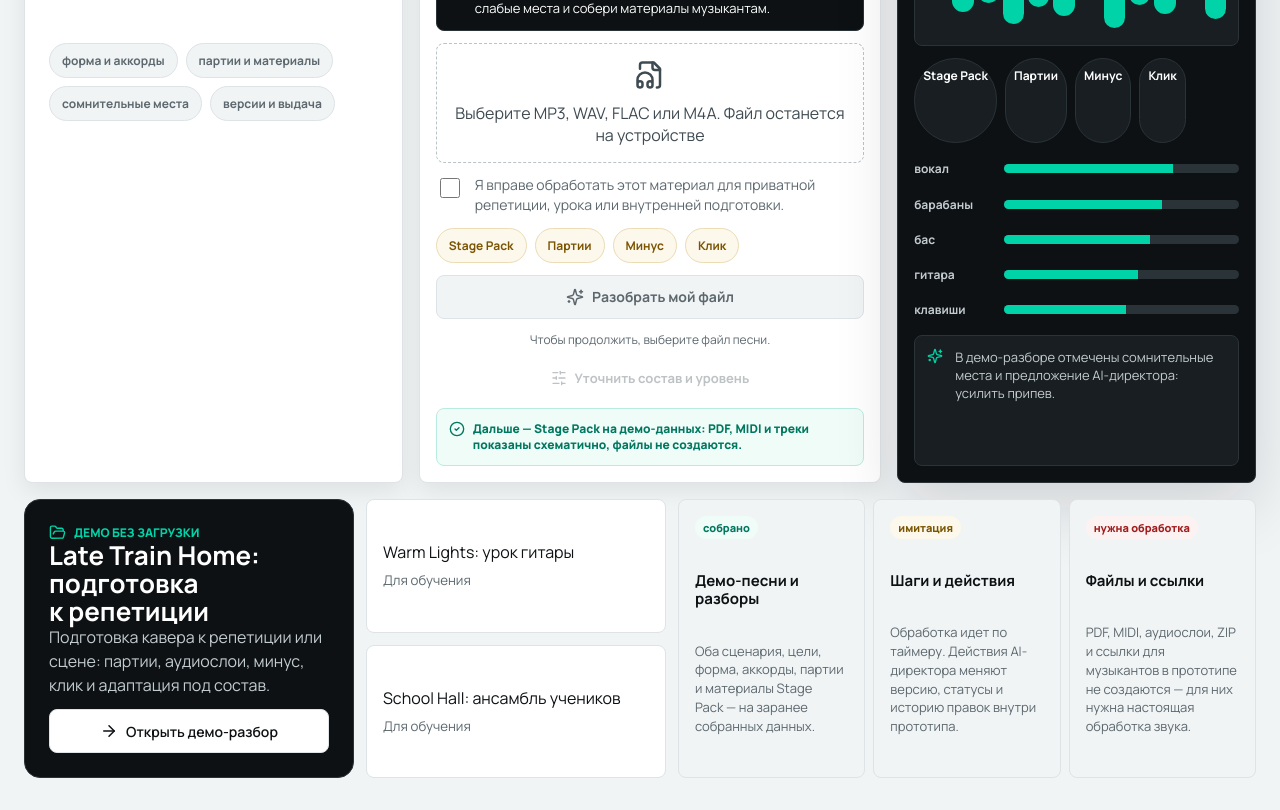
Test: экран обработки › доводит все вехи до готовности, включая «Ревью»
(page scrolled)
Click the button "Открыть демо-разбор".
click(189, 731)  # box [49,709,329,753]
(page scrolled)
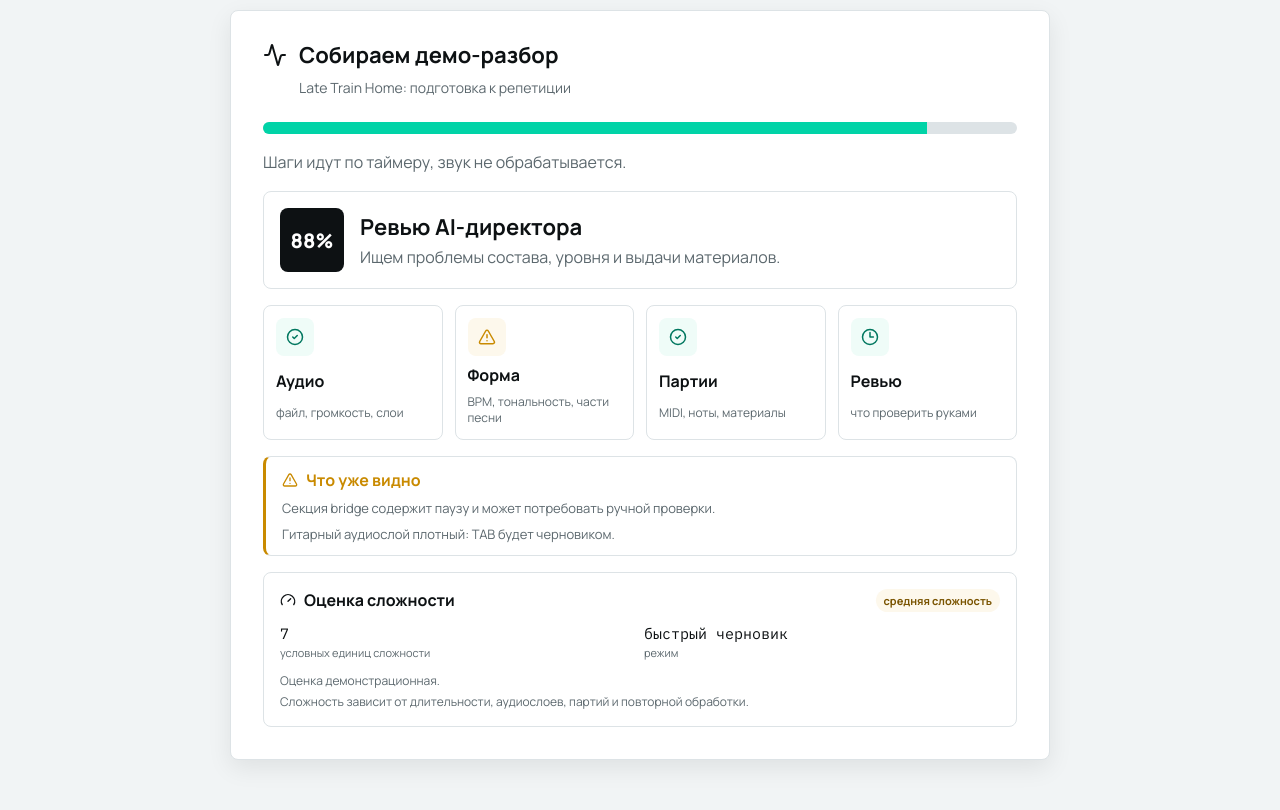
Check: the text "Ревью" is shown, box [850,370,902,392]
